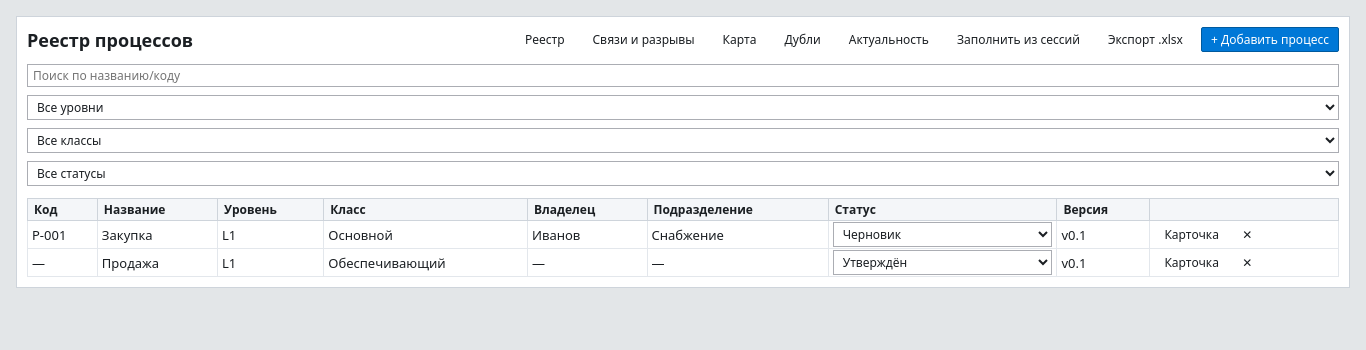
Scenario: реестр процессов › заполняет реестр из сессий и показывает результат
The width and height of the screenshot is (1366, 350).
Expected: the text "Закупка" is shown, [97, 220, 218, 248]
Click the button "Заполнить из сессий" at [1018, 40], box [947, 27, 1090, 52]
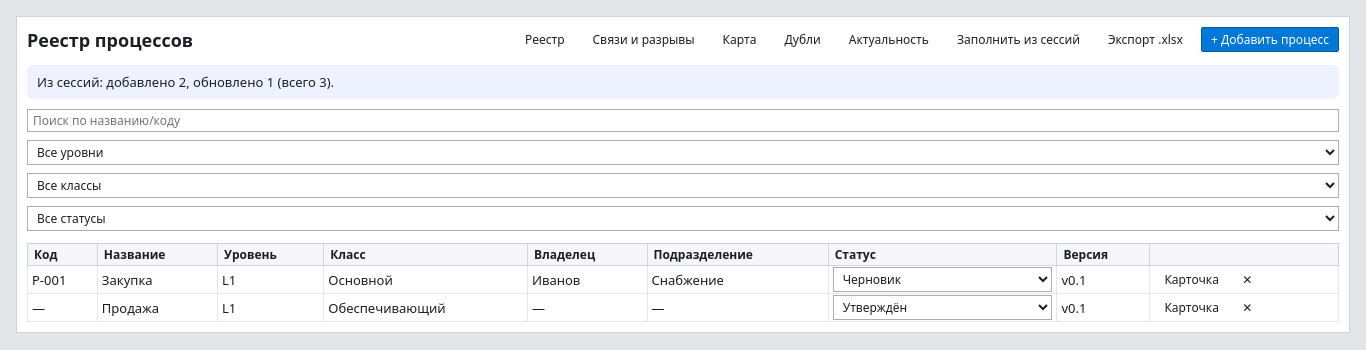
Expected: the text "Из сессий: добавлено 2, обновлено 1 (всего 3)." is shown, [27, 65, 1339, 99]
